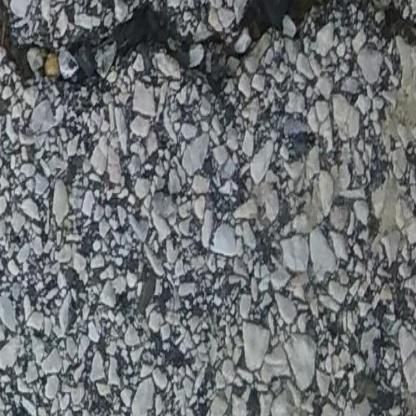Cracks: (0, 0, 416, 115)
